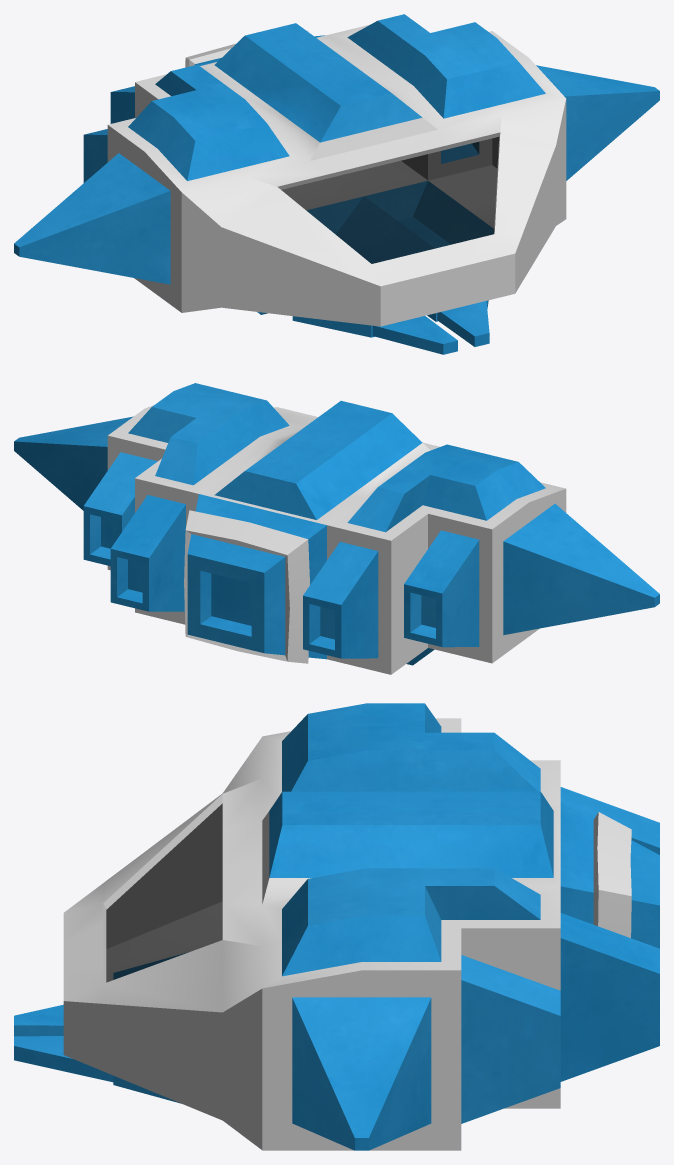
File: Enemy2.fbx
3 renders of one model, top to bottom at view 1: azimuth 30°, elevation 25°; view 2: azimuth 150°, elevation 25°; view 3: azimuth 270°, elevation 25°, orthographic. The views are drawn at different scales.
Visible parts, largest first — view 1: Enemy2; view 2: Enemy2; view 3: Enemy2.
Boxes of the visible parts, bbox=[...] form: Enemy2: bbox=[14, 14, 659, 354]; Enemy2: bbox=[14, 383, 659, 674]; Enemy2: bbox=[14, 703, 659, 1150].
Bounding box in the file's own units: 10 × 2.8 × 6.5.
